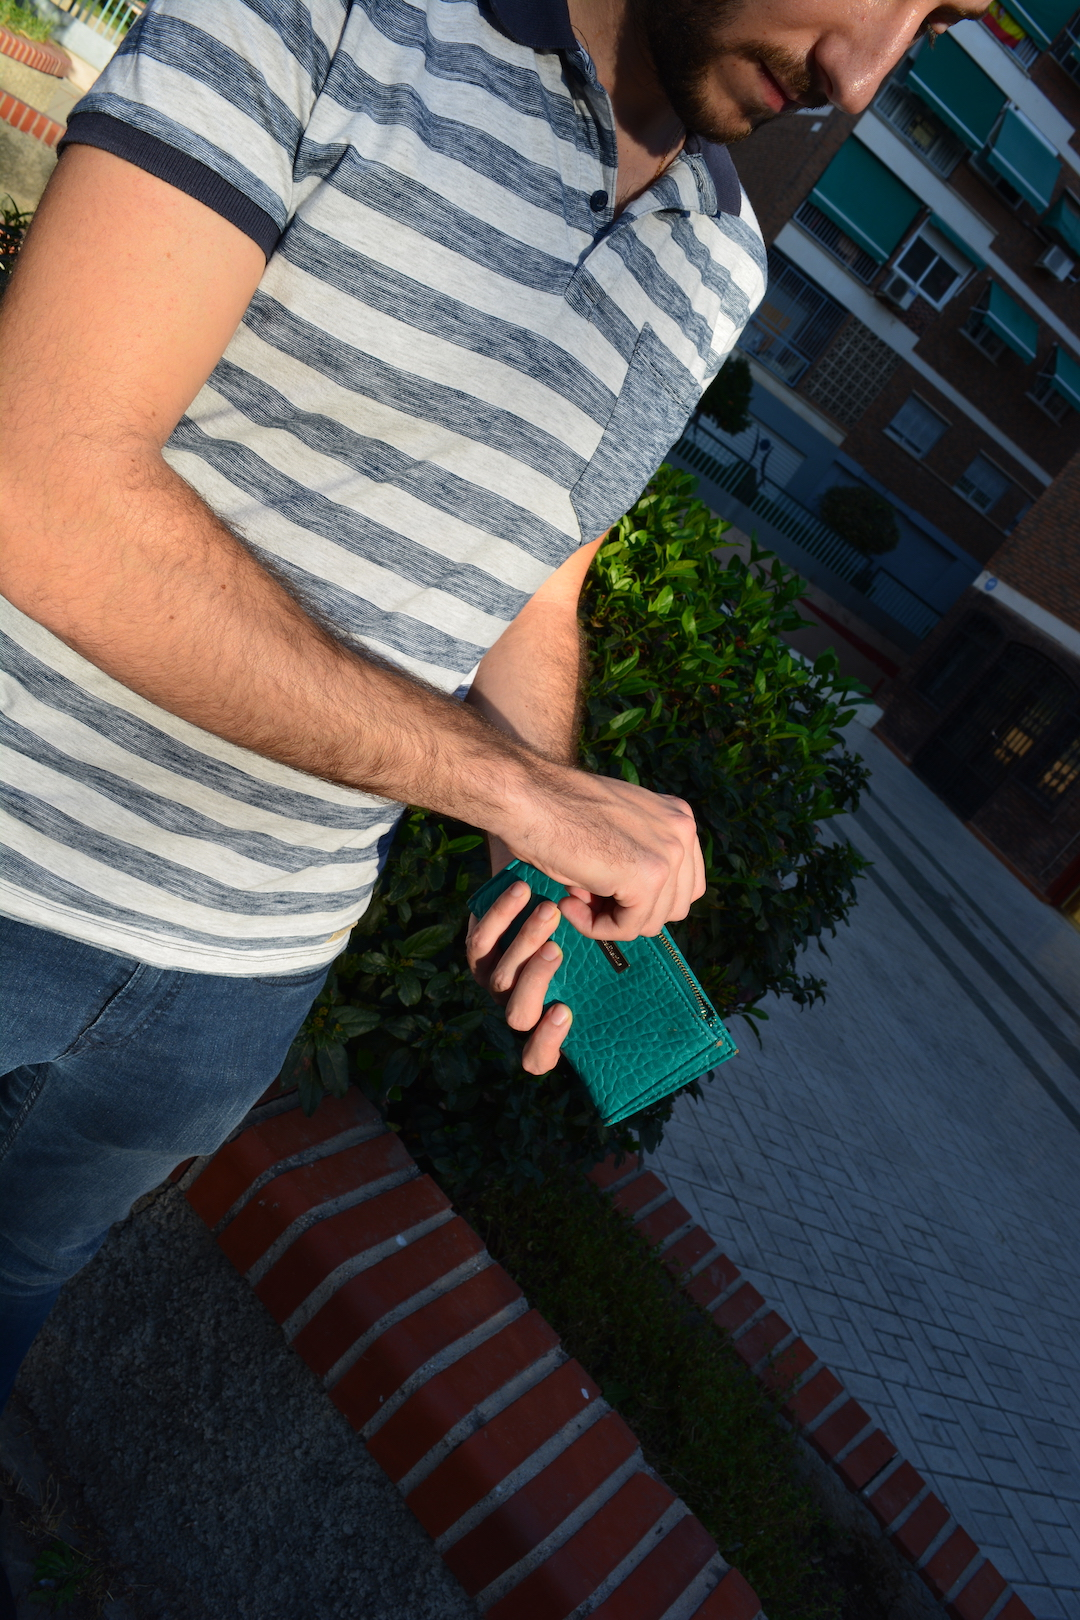monedero: (465, 856, 741, 1127)
